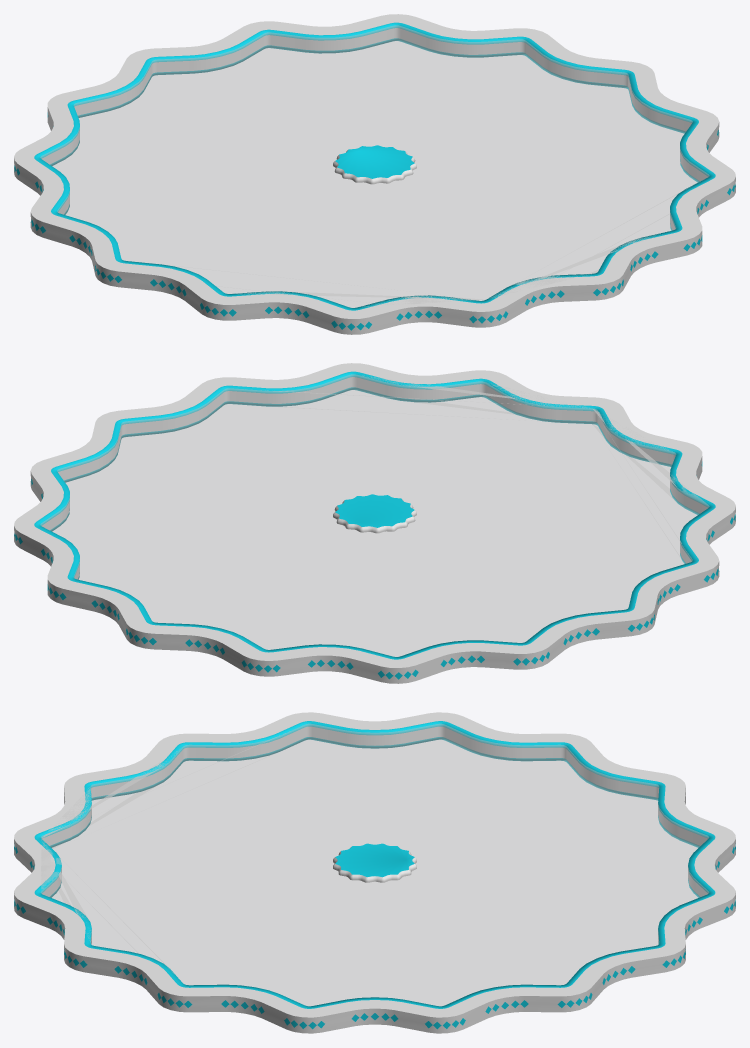
File: sky_platform.fbx
3 views of the same model, one above another, from view 1: azimuth 30°, elevation 25°; view 2: azimuth 150°, elevation 25°; view 3: azimuth 270°, elevation 25° (orthographic).
Visible parts, largest first — view 1: surf_skyworld.231; view 2: surf_skyworld.231; view 3: surf_skyworld.231.
Boxes of the visible parts, x1=… form: surf_skyworld.231: x1=14, y1=14, x2=735, y2=334; surf_skyworld.231: x1=14, y1=363, x2=735, y2=683; surf_skyworld.231: x1=14, y1=712, x2=735, y2=1033.
Size of the model in its own units: 547 by 17.22 by 547.
